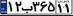character: (22, 3, 34, 15), (47, 1, 56, 14), (14, 1, 22, 14), (7, 1, 14, 15), (32, 1, 40, 13), (40, 1, 47, 14), (63, 3, 71, 13), (56, 4, 63, 14)
